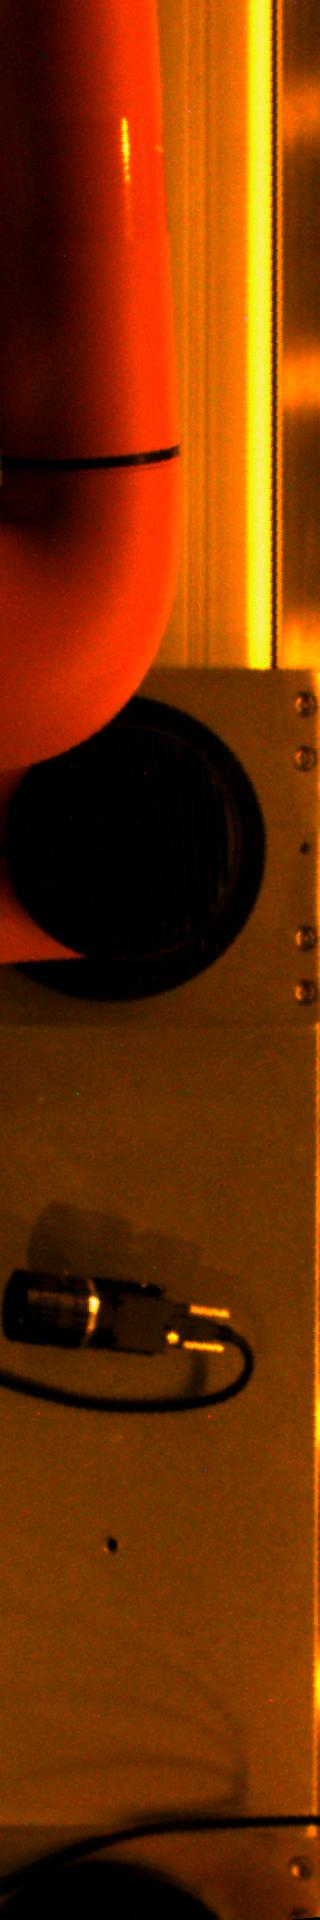keyPoint_2: (97, 1531, 128, 1560)
